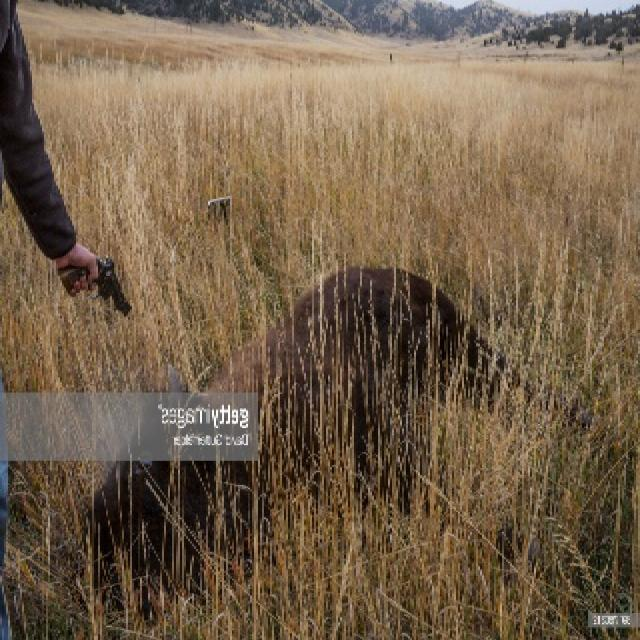handgun: (59, 249, 137, 321)
